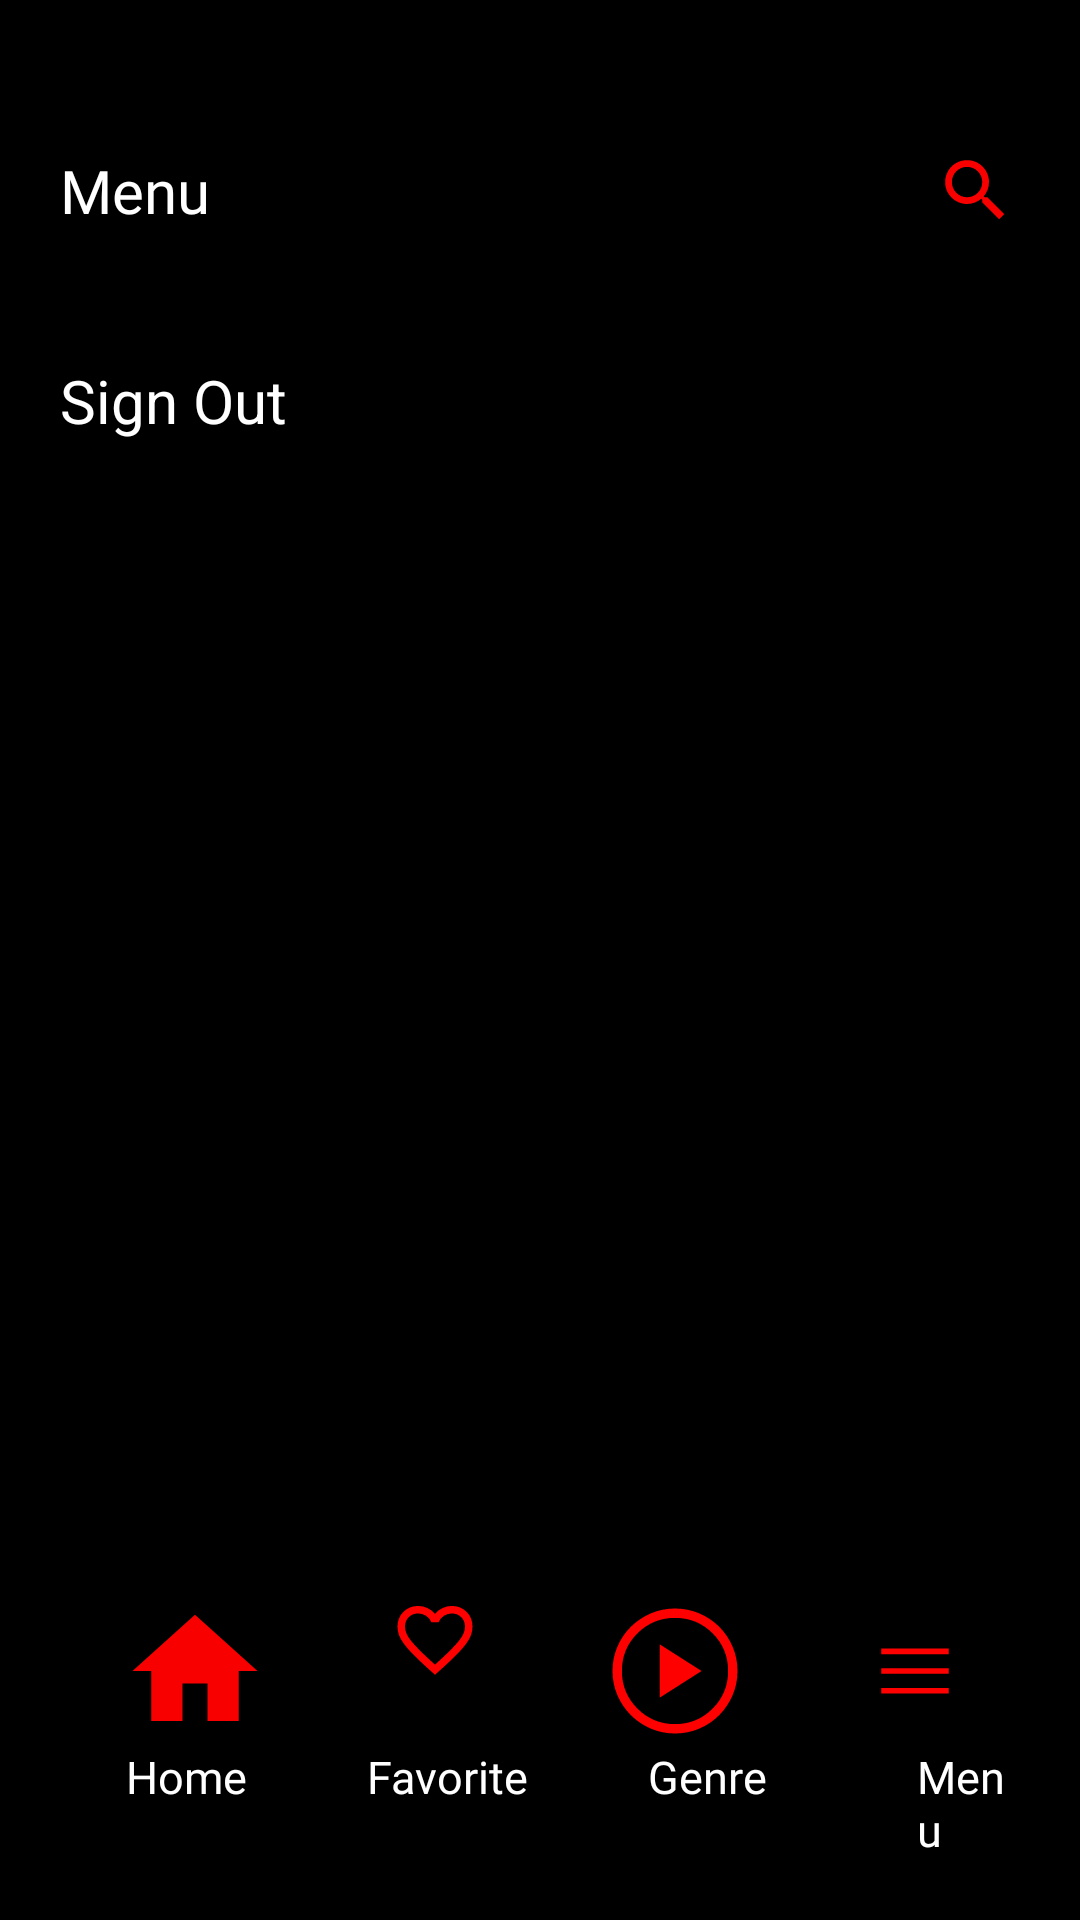

Screen size 1080 x 1920. Icon name, then its center in pixels as [x,y]:
search: [974,189]
